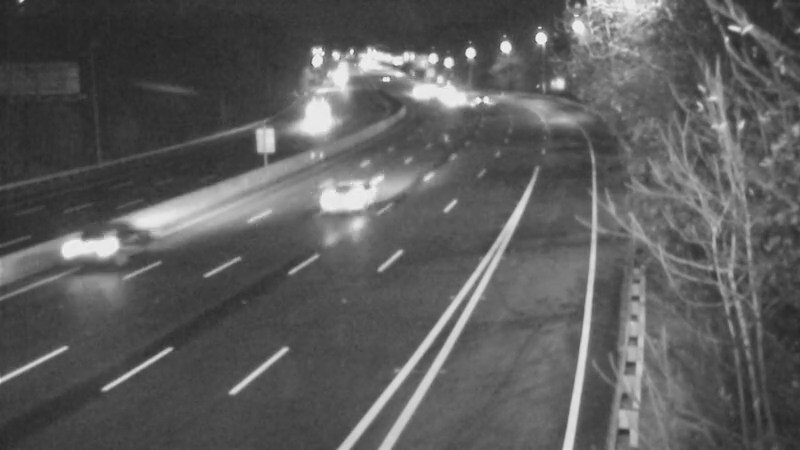vehicle: (305, 148, 385, 228), (51, 203, 131, 283), (429, 74, 479, 124), (449, 74, 499, 124), (291, 94, 341, 144)
